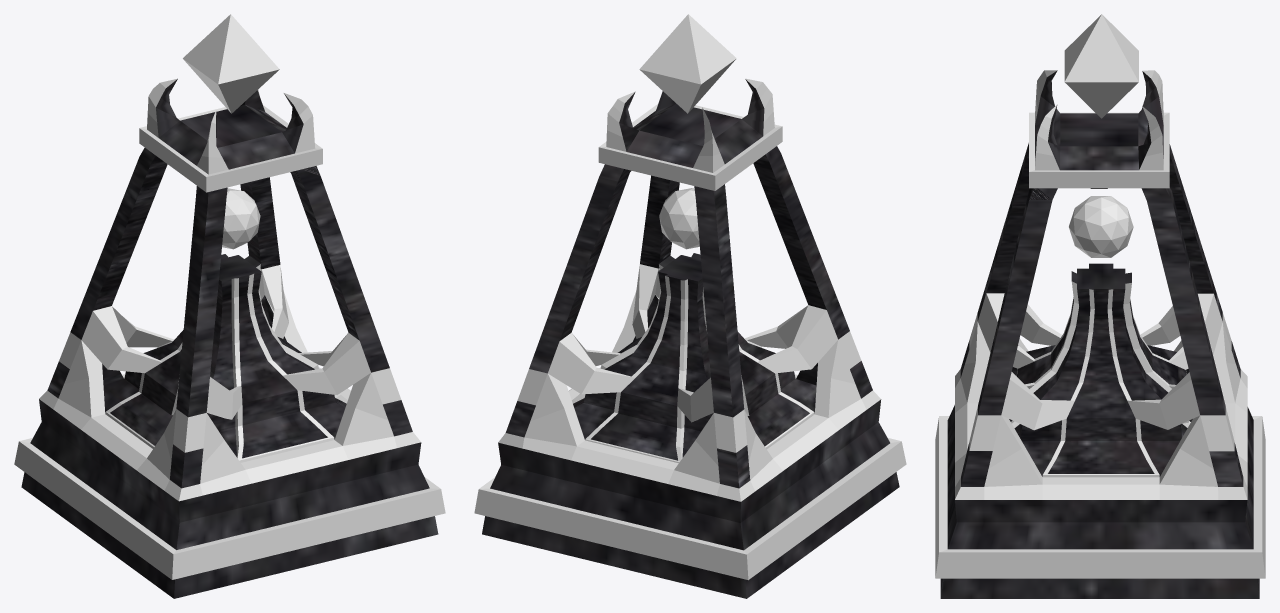
File: toprak kulesi.fbx
3 renders of one model, left to right at view 1: azimuth 30°, elevation 25°; view 2: azimuth 150°, elevation 25°; view 3: azimuth 270°, elevation 25°, orthographic. The views are drawn at different scales.
Visible parts, largest first — view 1: Cube.001, Cube.003, Cube.002; view 2: Cube.001, Cube.003, Cube.002; view 3: Cube.001, Cube.003, Cube.002.
Part boxes in pixels (x1,y1,x2,y2): Cube.001: [14, 78, 445, 598]; Cube.003: [183, 14, 279, 113]; Cube.002: [222, 188, 260, 249]; Cube.001: [474, 78, 906, 598]; Cube.003: [639, 14, 736, 113]; Cube.002: [659, 188, 699, 249]; Cube.001: [935, 70, 1265, 598]; Cube.003: [1064, 14, 1138, 118]; Cube.002: [1069, 196, 1133, 257].
Size of the model in its own units: 226 by 391 by 226.
